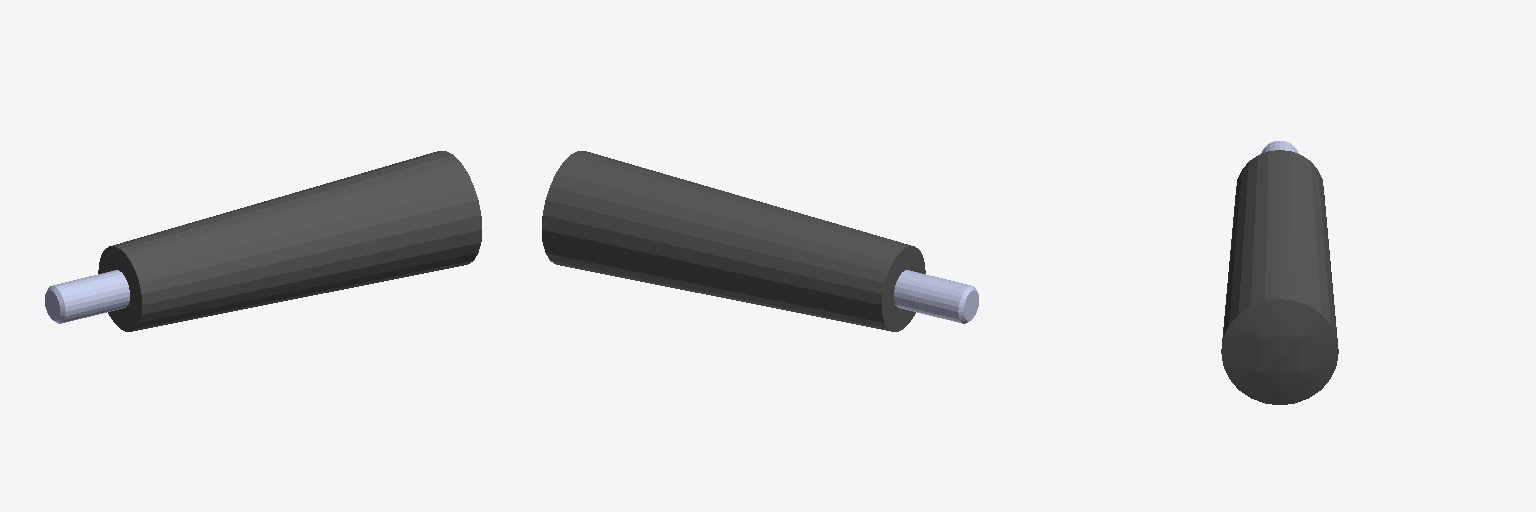
Rendered from ganter_gn_203-12-m4.obj.
The picture shows the model from 3 angles: view 1: azimuth 30°, elevation 25°; view 2: azimuth 150°, elevation 25°; view 3: azimuth 270°, elevation 25°; orthographic projection.
Parts seen in each view (by area): view 1: ganter_gn_203-12-m4_1; view 2: ganter_gn_203-12-m4_1; view 3: ganter_gn_203-12-m4_1.
Part boxes in pixels (bbox=[...]): ganter_gn_203-12-m4_1: bbox=[45, 151, 481, 331]; ganter_gn_203-12-m4_1: bbox=[542, 151, 978, 331]; ganter_gn_203-12-m4_1: bbox=[1221, 141, 1338, 404].
Size of the model in its own units: 48 by 12 by 12.